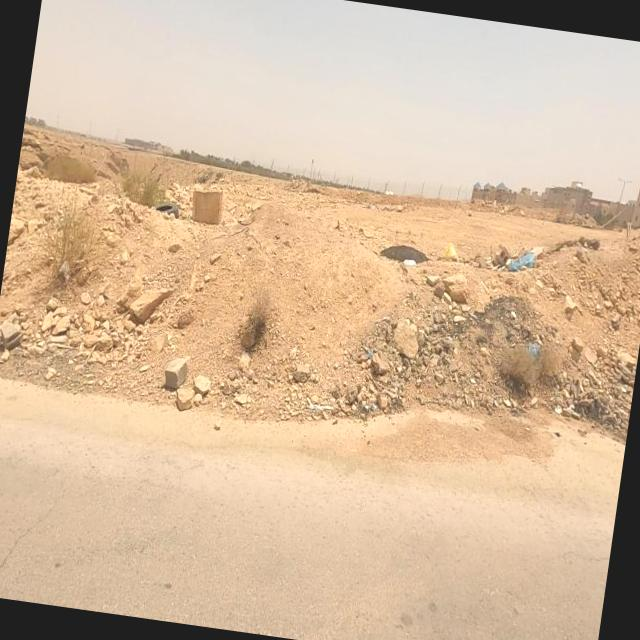debris: (439, 180, 594, 348), (492, 296, 570, 409), (124, 158, 208, 255), (371, 216, 442, 307), (414, 200, 478, 290)
